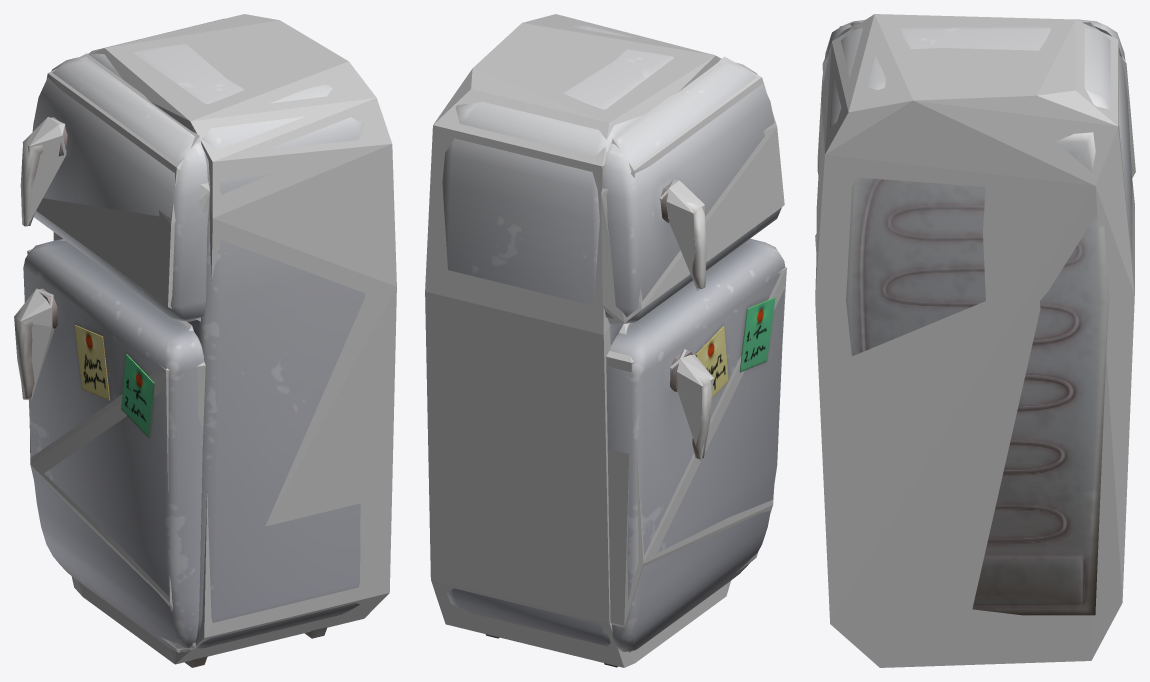
The model's file is SM_Refrigerator01.fbx.
3 renders of one model, left to right at view 1: azimuth 30°, elevation 25°; view 2: azimuth 150°, elevation 25°; view 3: azimuth 270°, elevation 25°, orthographic. The views are drawn at different scales.
Visible parts, largest first — view 1: SM_Refrigerator01, SM_Refrigerator01_ConvexHulls; view 2: SM_Refrigerator01_ConvexHulls, SM_Refrigerator01; view 3: SM_Refrigerator01_ConvexHulls, SM_Refrigerator01.
Part boxes in pixels (x1=…): SM_Refrigerator01: x1=14, y1=18, x2=364, y2=667; SM_Refrigerator01_ConvexHulls: x1=14, y1=14, x2=396, y2=664; SM_Refrigerator01_ConvexHulls: x1=425, y1=14, x2=786, y2=667; SM_Refrigerator01: x1=442, y1=24, x2=785, y2=667; SM_Refrigerator01_ConvexHulls: x1=815, y1=14, x2=1135, y2=667; SM_Refrigerator01: x1=816, y1=19, x2=1132, y2=615.
Bounding box in the file's own units: 99.67 × 101 × 199.
Materials: 2 (1 with a texture image).
